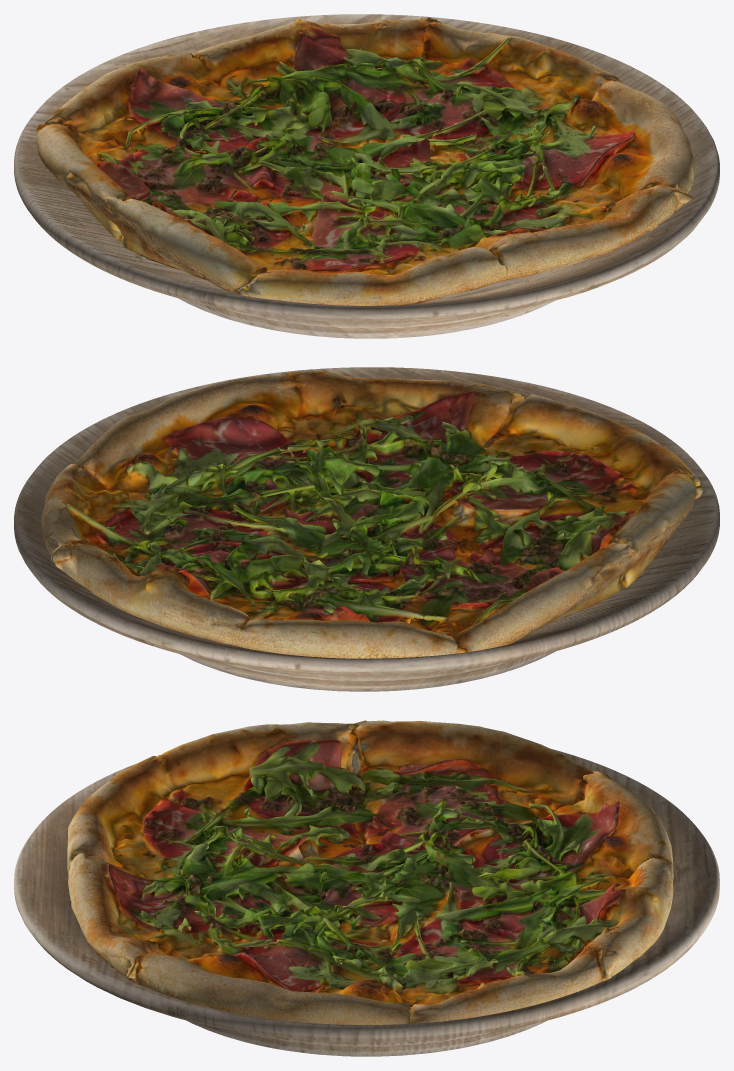
File: pizza-trufa.glb
3 renders of one model, top to bottom at view 1: azimuth 30°, elevation 25°; view 2: azimuth 150°, elevation 25°; view 3: azimuth 270°, elevation 25°, orthographic.
Visible parts, largest first — view 1: pizza_pizza_0, Tarelka001__0; view 2: pizza_pizza_0, Tarelka001__0; view 3: pizza_pizza_0, Tarelka001__0.
Boxes of the visible parts, <box> form: pizza_pizza_0: <box>36,17,695,305</box>; Tarelka001__0: <box>14,14,719,338</box>; pizza_pizza_0: <box>41,370,703,658</box>; Tarelka001__0: <box>14,367,719,691</box>; pizza_pizza_0: <box>67,720,673,1024</box>; Tarelka001__0: <box>14,749,719,1056</box>.
Bounding box in the file's own units: 0.38 × 0.067 × 0.38.
2 materials, 2 textured.
